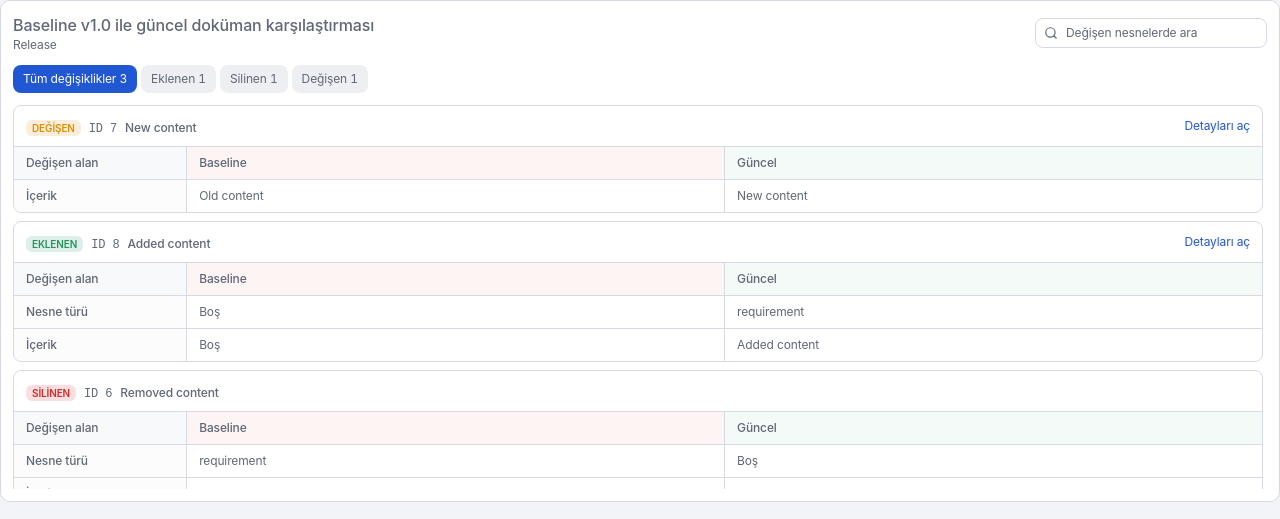
Test: BaselineDiffView › searches changes by object ID and content
Type "8" into the field with test id "baseline-diff-search" at (1162, 33), box [1066,25,1258,41]
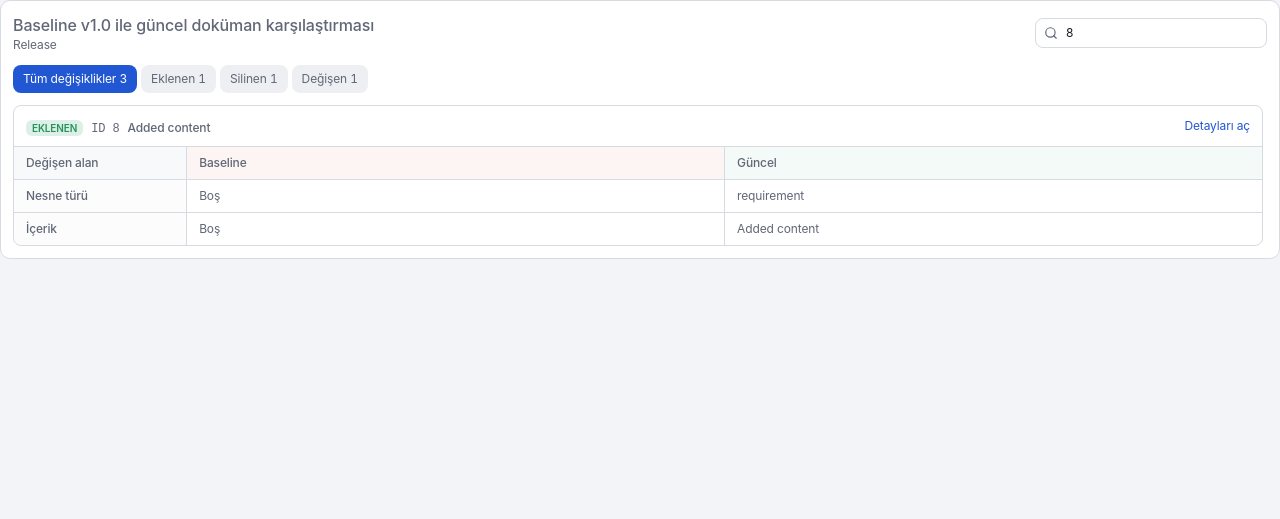
Expected: the element with test id "baseline-diff-row-added" is shown, [13,105,1263,246]
Now the element with test id "baseline-diff-row-modified" is gone
